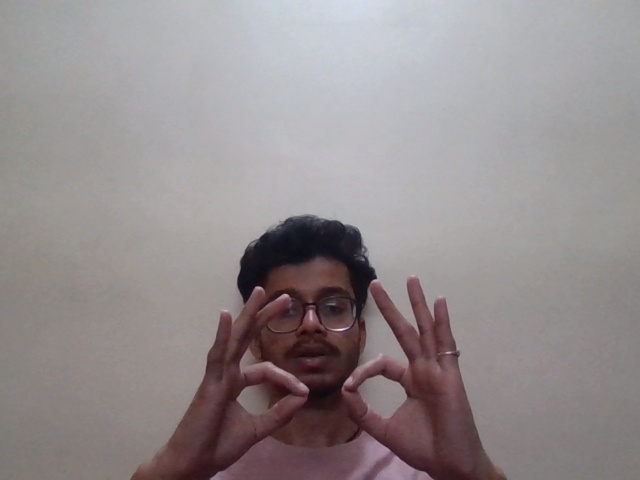nice: (188, 276, 477, 470)
